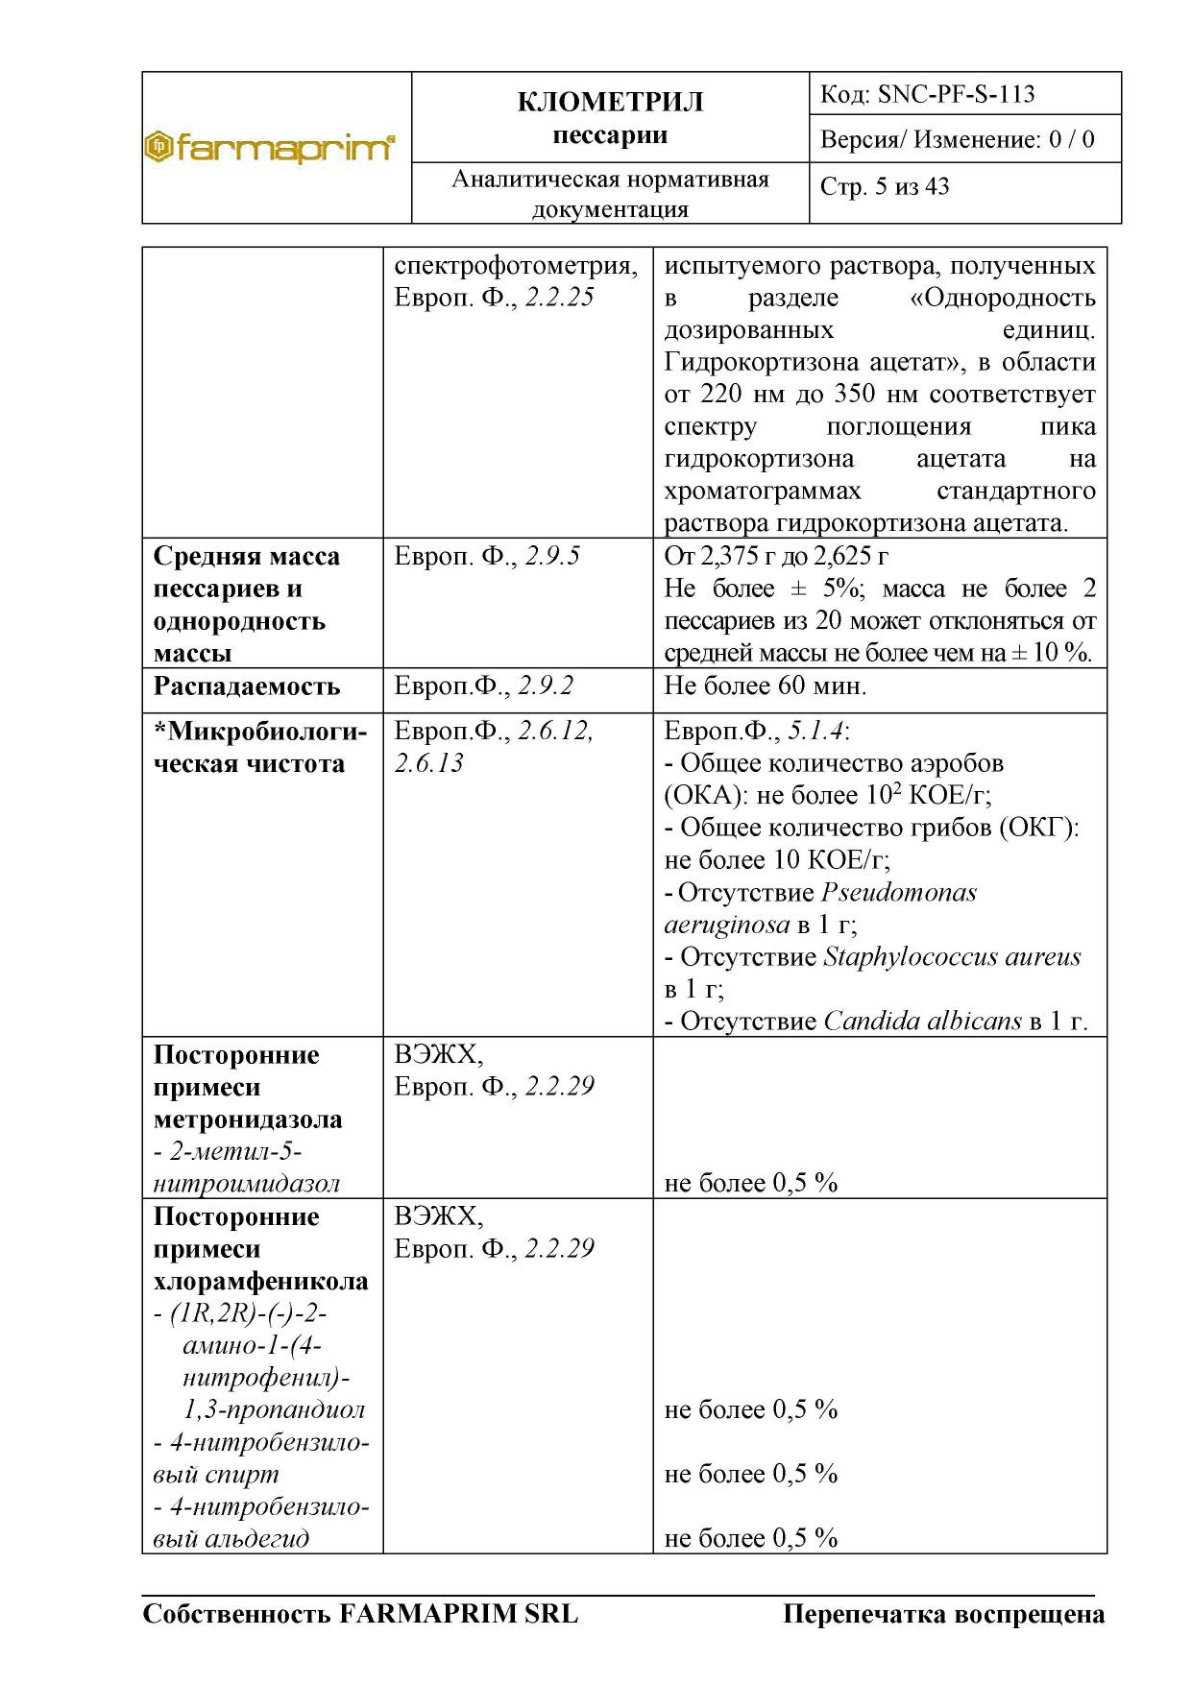full_lined: (141, 245, 1109, 1555)
merged_cells: (141, 70, 1124, 226)
